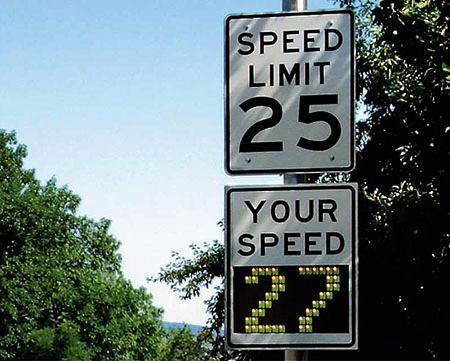speed limit sign: (223, 14, 357, 174)
